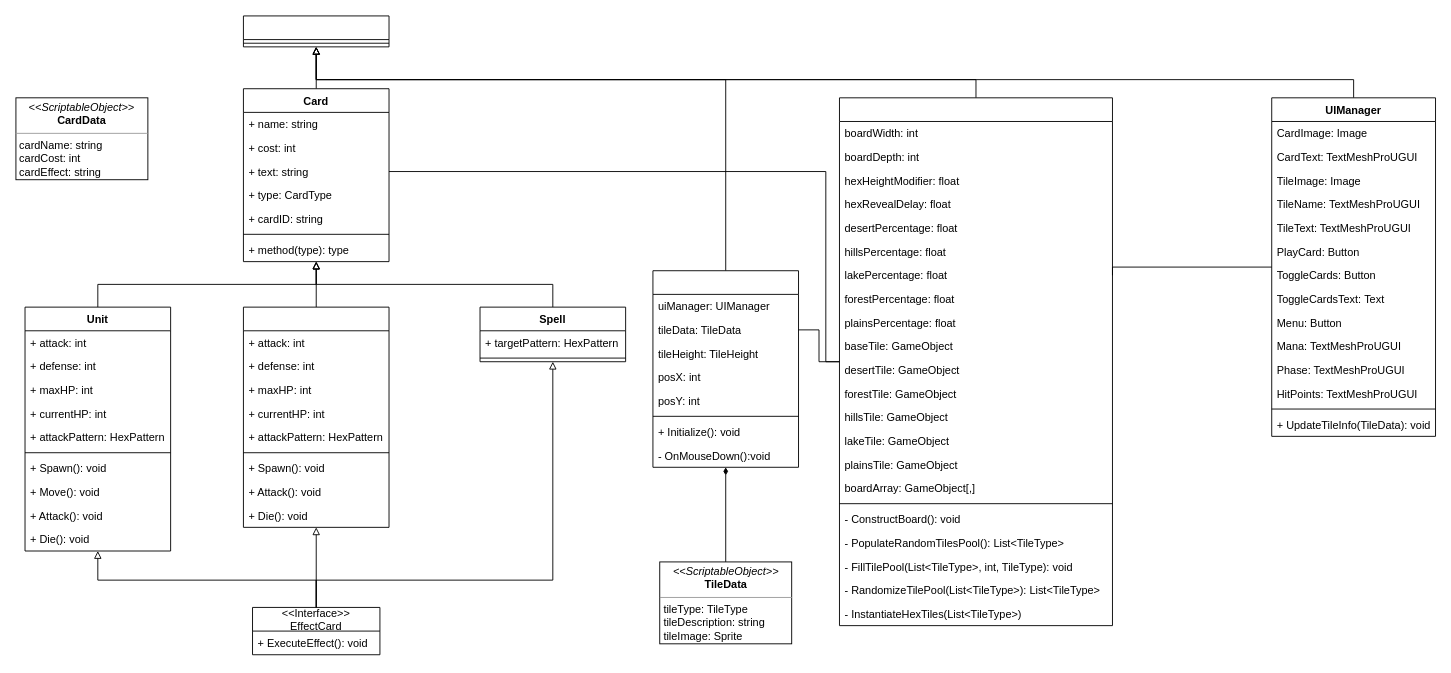
Some shapes in this 1451 by 673 pixel diagram are drawn without their labels. Here are the shapes that lost their labels. From the top down, the box of each, then its label:
(243, 15, 389, 47): MonoBehaviour
(652, 270, 799, 467): HexTile
(839, 97, 1112, 626): BoardManager
(243, 306, 389, 527): Building
